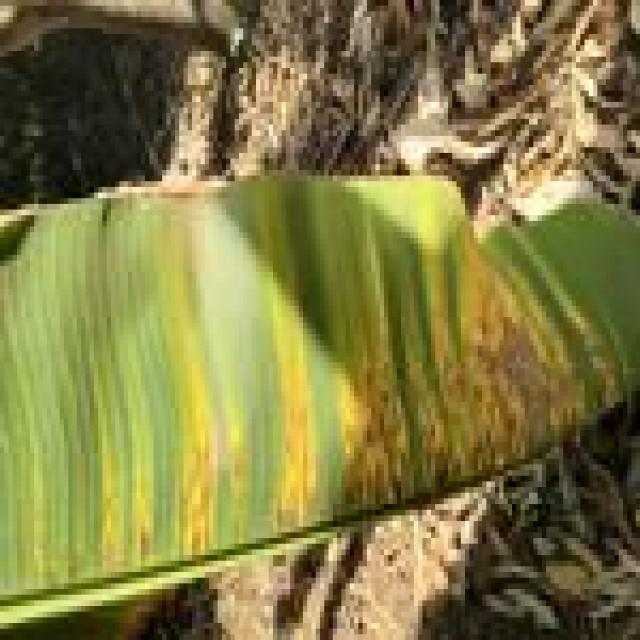Early_rust: (15, 110, 640, 576)
